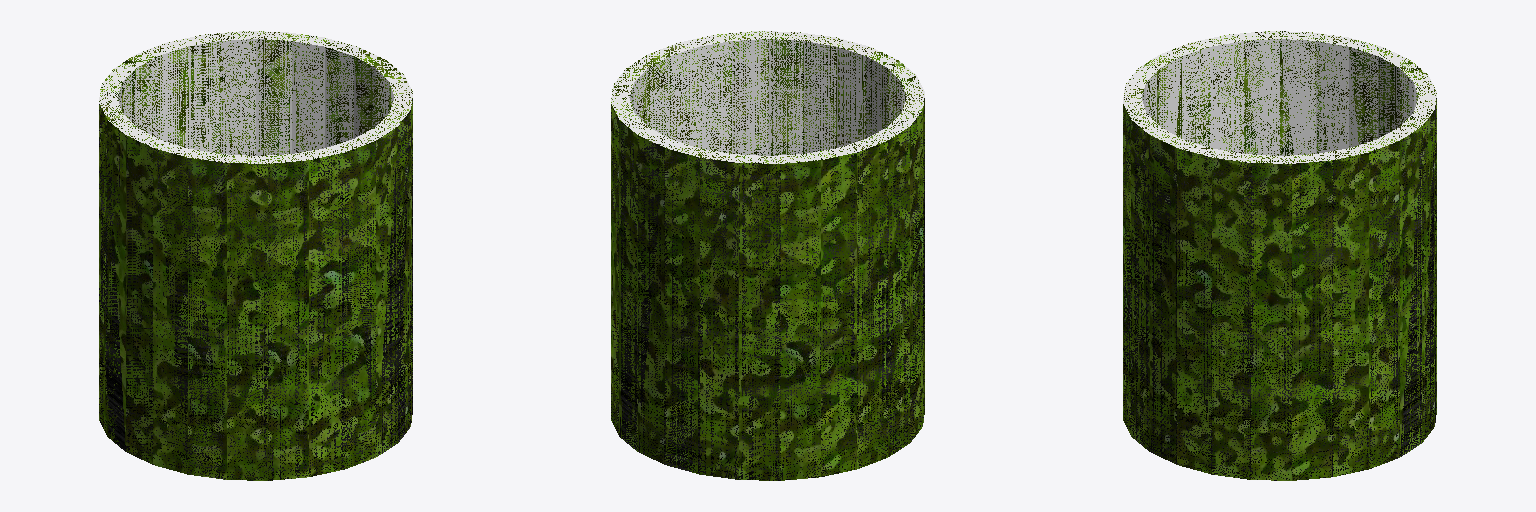
3 renders of one model, left to right at view 1: azimuth 30°, elevation 25°; view 2: azimuth 150°, elevation 25°; view 3: azimuth 270°, elevation 25°, orthographic.
Visible parts, largest first — view 1: mesh1_mesh1-geometry; view 2: mesh1_mesh1-geometry; view 3: mesh1_mesh1-geometry.
Boxes of the visible parts, <box> form: mesh1_mesh1-geometry: <box>99,31,412,480</box>; mesh1_mesh1-geometry: <box>611,31,924,480</box>; mesh1_mesh1-geometry: <box>1123,31,1436,480</box>.
Size of the model in its own units: 0.5558 by 0.6181 by 0.5558.
3 materials, 2 textured.